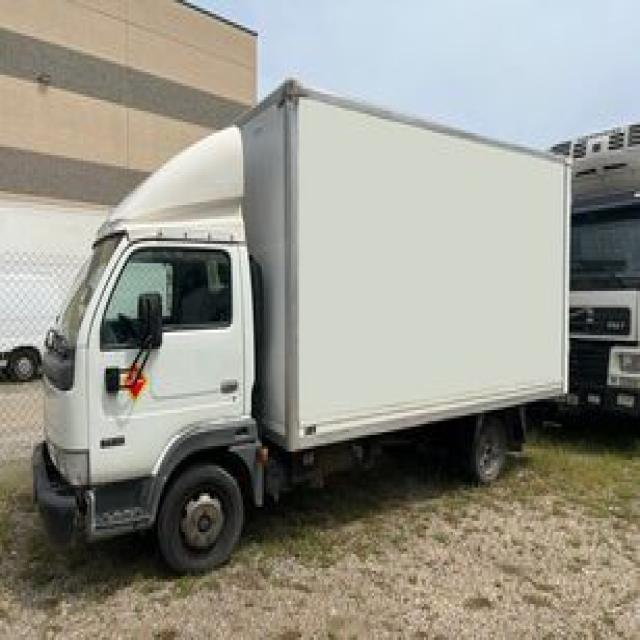truck: (34, 82, 570, 571)
